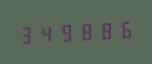eight: (75, 20, 93, 43), (94, 19, 112, 42)
four: (36, 22, 54, 45)
nine: (56, 21, 74, 44)
six: (113, 18, 131, 41)
three: (17, 23, 35, 46)
